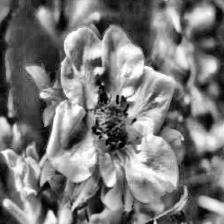Blossom Blight: (79, 89, 144, 162)
